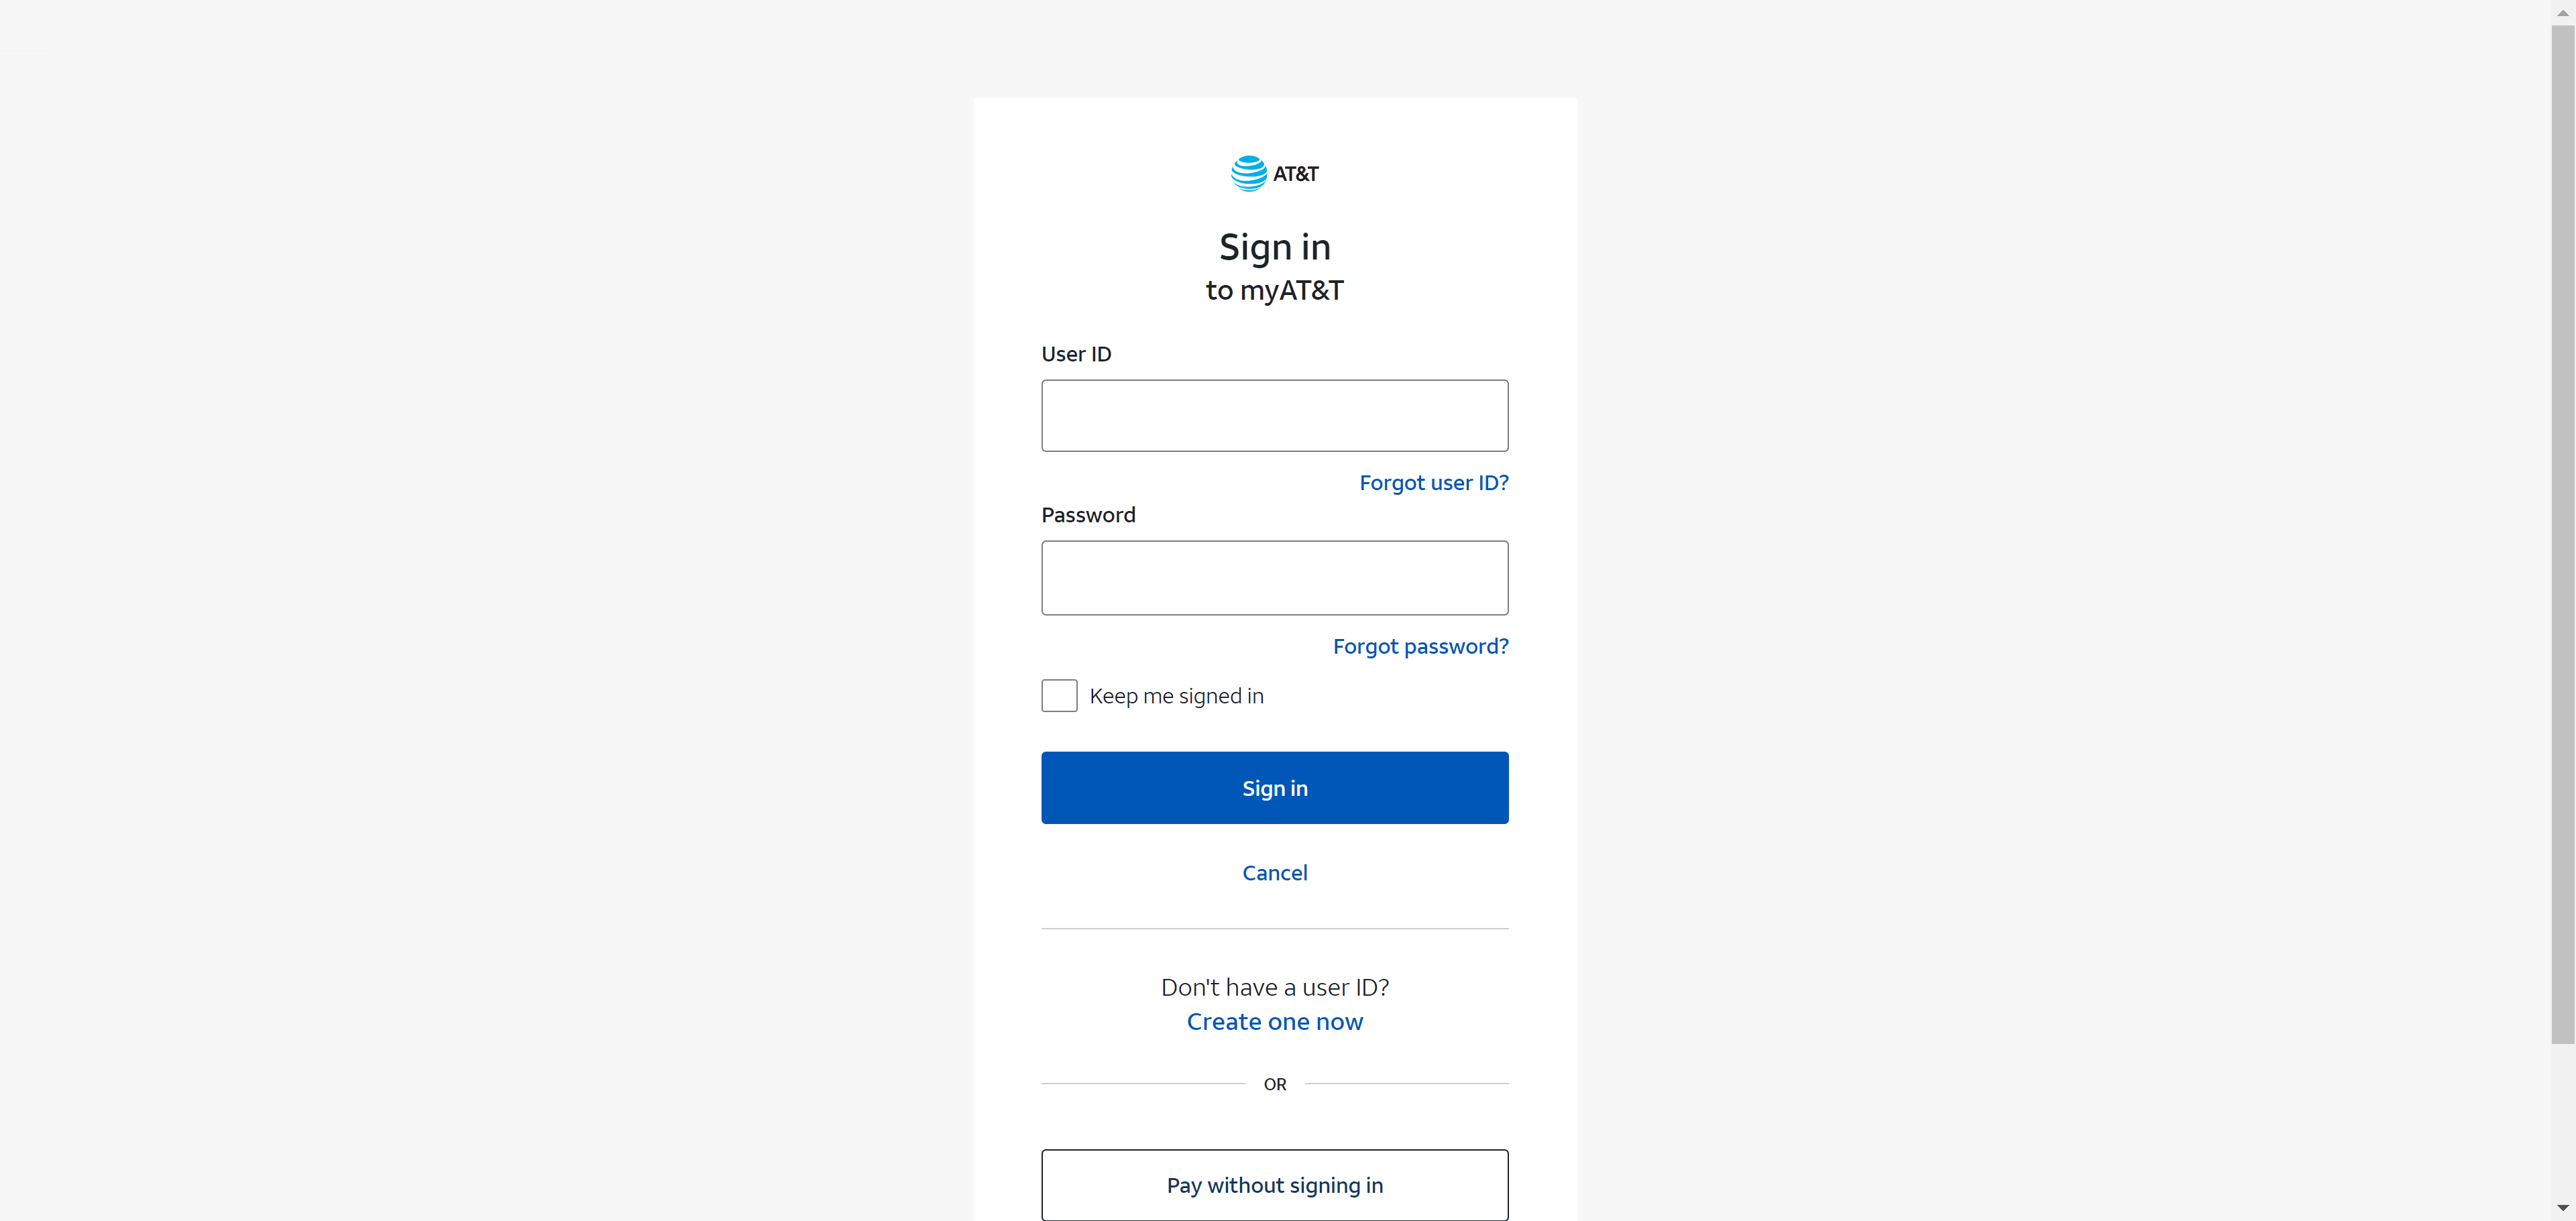login_button: (1042, 751, 1510, 825)
login_form: (1030, 337, 1520, 830)
